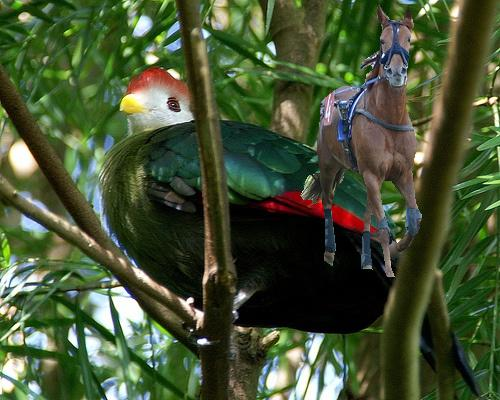tampered: (301, 6, 422, 277)
